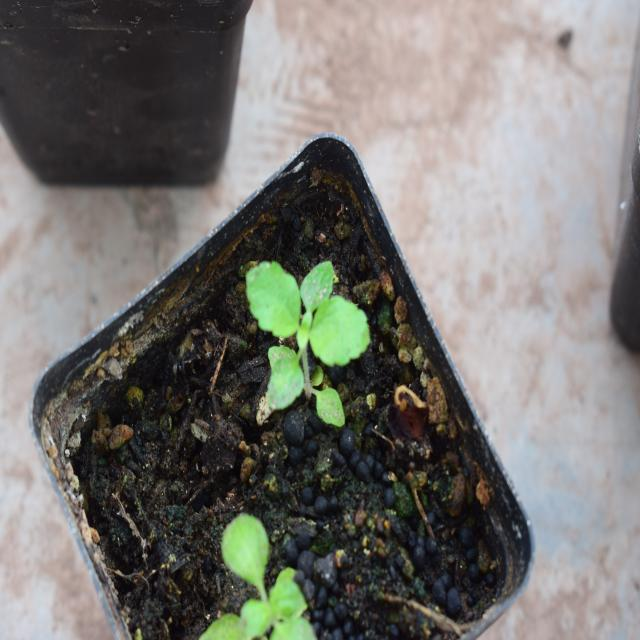billygoat_weed: (250, 229, 376, 429)
